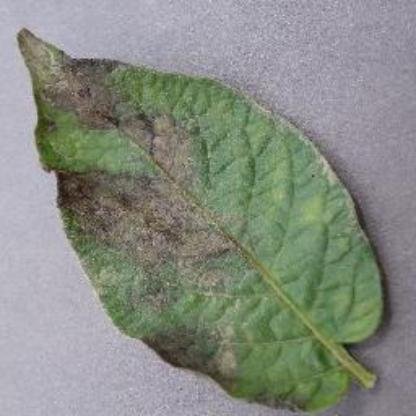Late-Blight: (9, 15, 402, 409)
